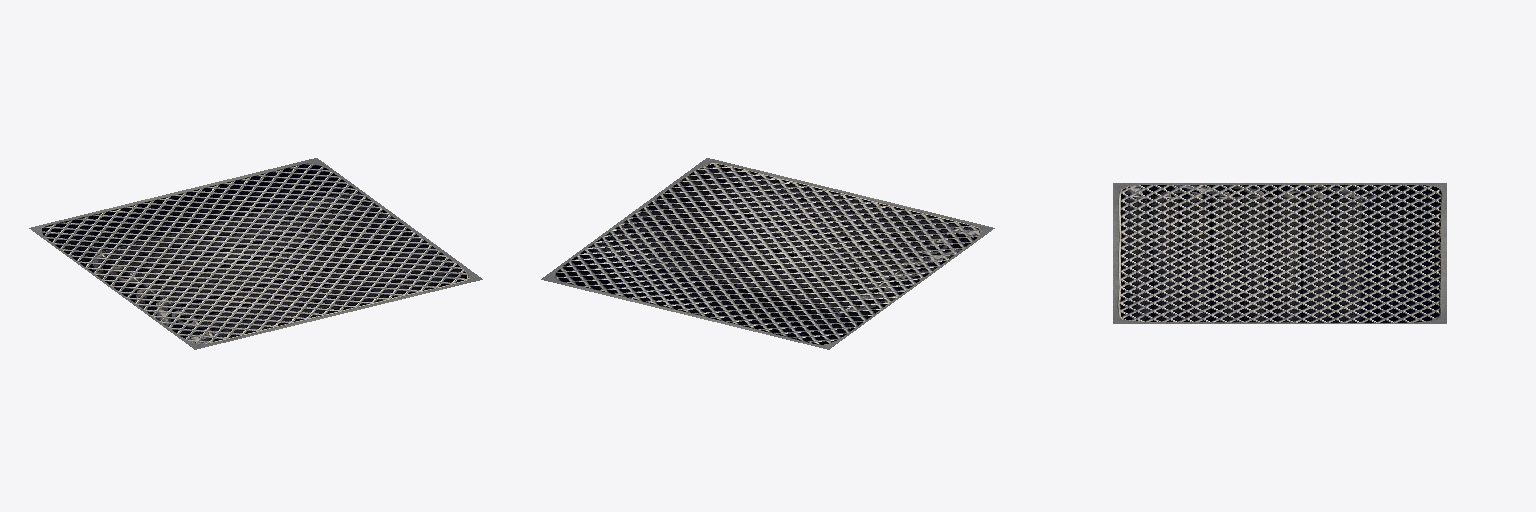
3 renders of one model, left to right at view 1: azimuth 30°, elevation 25°; view 2: azimuth 150°, elevation 25°; view 3: azimuth 270°, elevation 25°, orthographic.
Visible parts, largest first — view 1: ceiling; view 2: ceiling; view 3: ceiling.
Boxes of the visible parts, box(x1,y1,x2,y2) form: ceiling: box(29, 158, 482, 349); ceiling: box(541, 158, 994, 349); ceiling: box(1113, 183, 1446, 323).
Bounding box in the file's own units: 0.9984 × 0.0146 × 0.9984.
Materials: 1 (1 with a texture image).